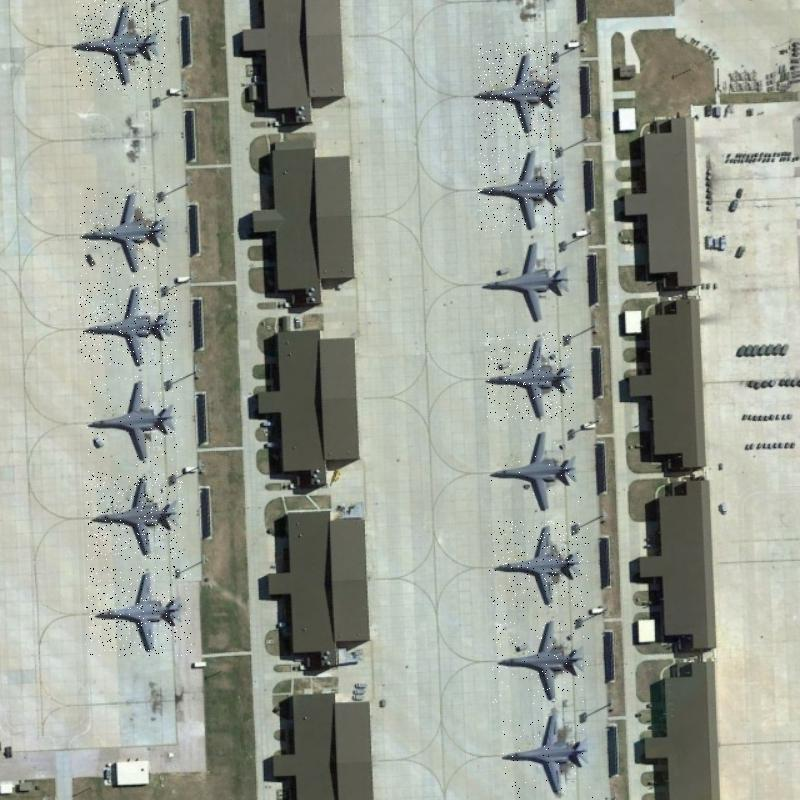A10: (85, 566, 192, 656), (500, 700, 594, 799), (87, 373, 182, 465), (491, 614, 589, 703), (86, 471, 184, 560), (489, 521, 589, 608), (80, 186, 170, 277), (489, 424, 581, 513), (79, 282, 177, 365), (75, 0, 165, 90), (478, 41, 559, 139), (487, 332, 574, 421), (482, 238, 573, 323), (478, 145, 564, 233)
